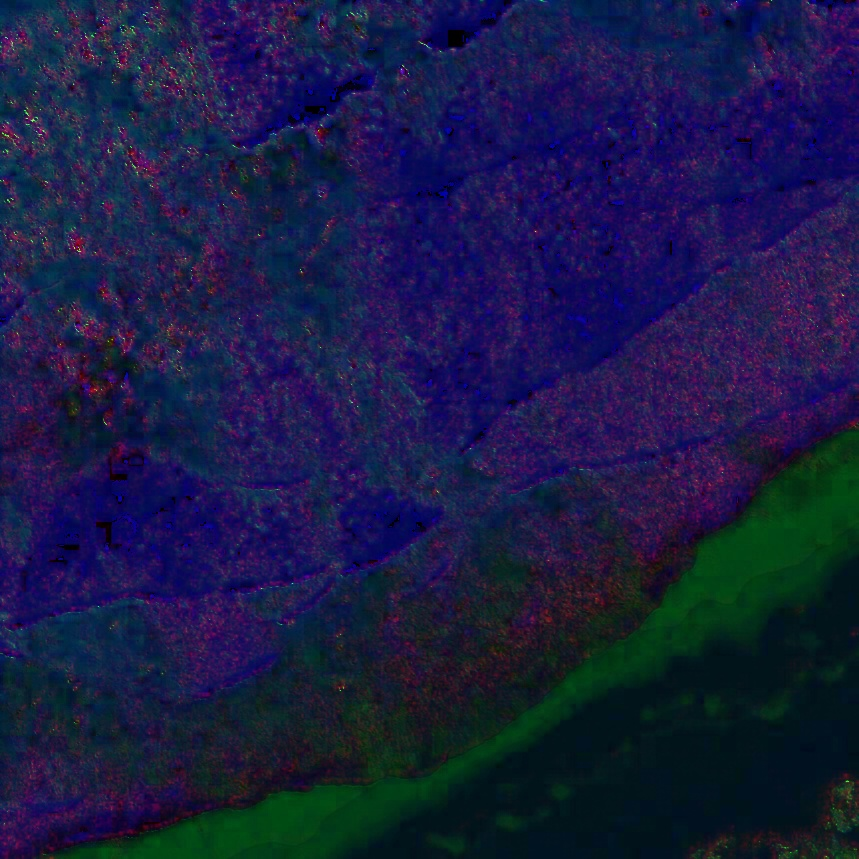rip_current: (190, 138, 535, 594)
